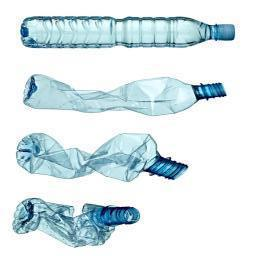plastic: (24, 74, 227, 116), (17, 133, 188, 182), (23, 17, 236, 48), (13, 199, 140, 248)
